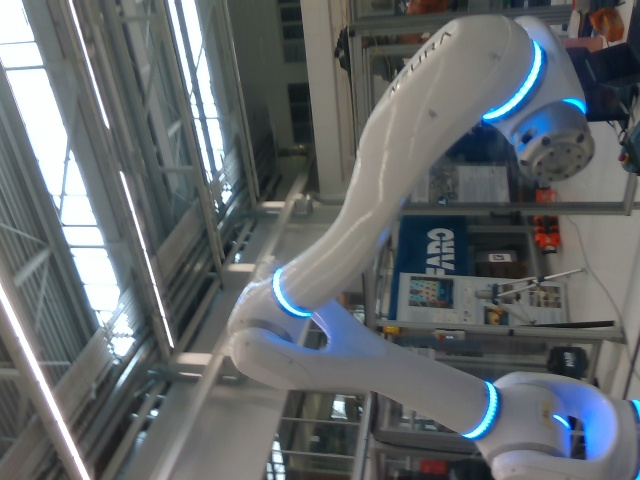Robot arm: (226, 14, 639, 479)
